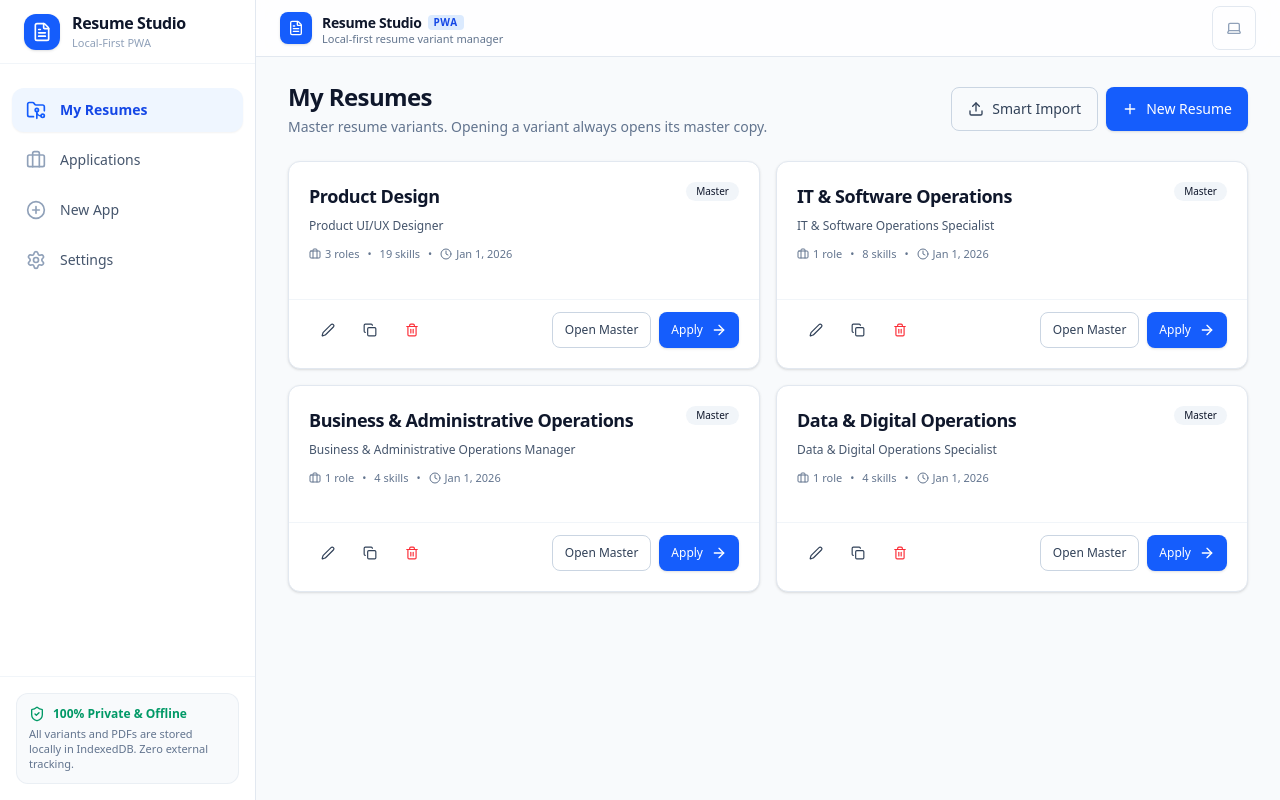
Phase 3 Integration: Resume Library & Application Creation Flow › New Application Workflow › pre-selects variant and auto-populates Job Title from headline
Check: the heading "My Resumes" is shown, box [288,80,432,113]
Click the button "Apply" below "Product UI/UX Designer" at (699, 330), box [659,312,739,348]
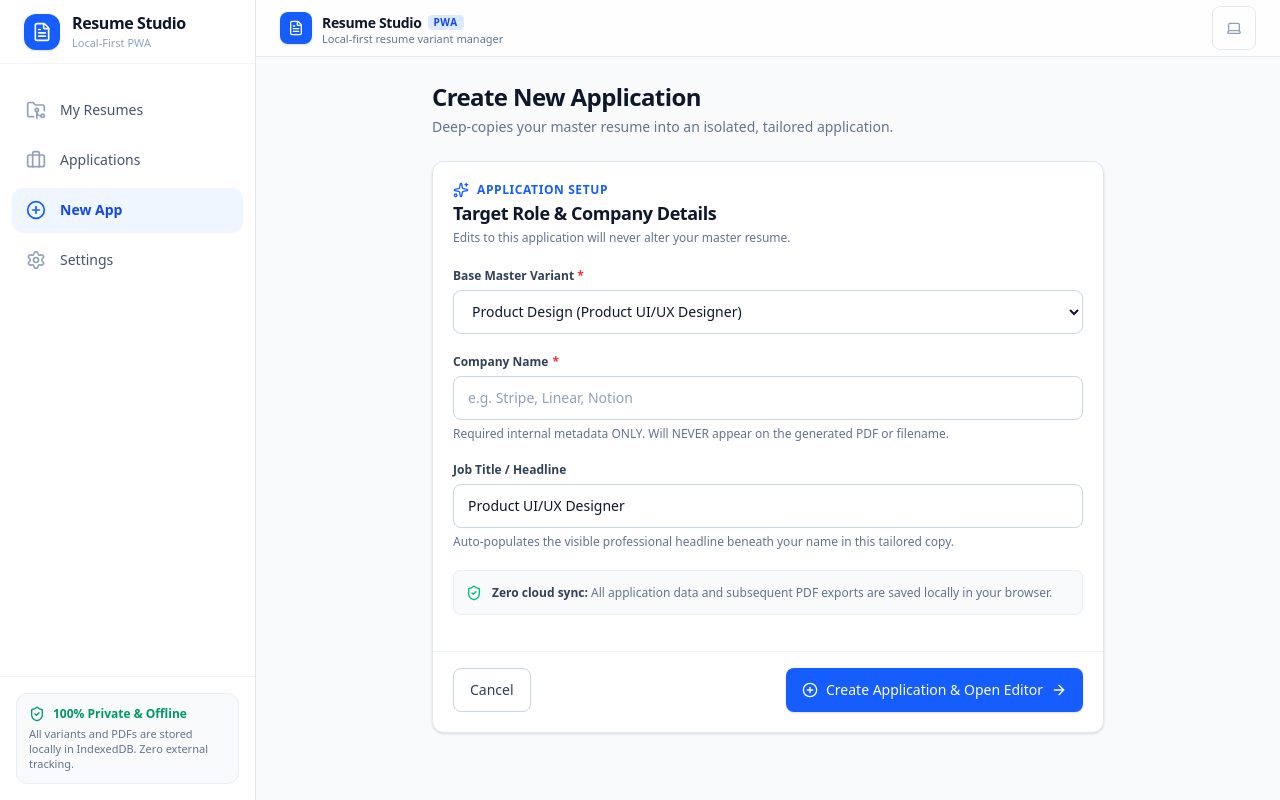
Check: the heading "Create New Application" is shown, box [432,80,701,113]
Check: the field labelled "Job Title / Headline" holds "Product UI/UX Designer", box [453,484,1083,528]
